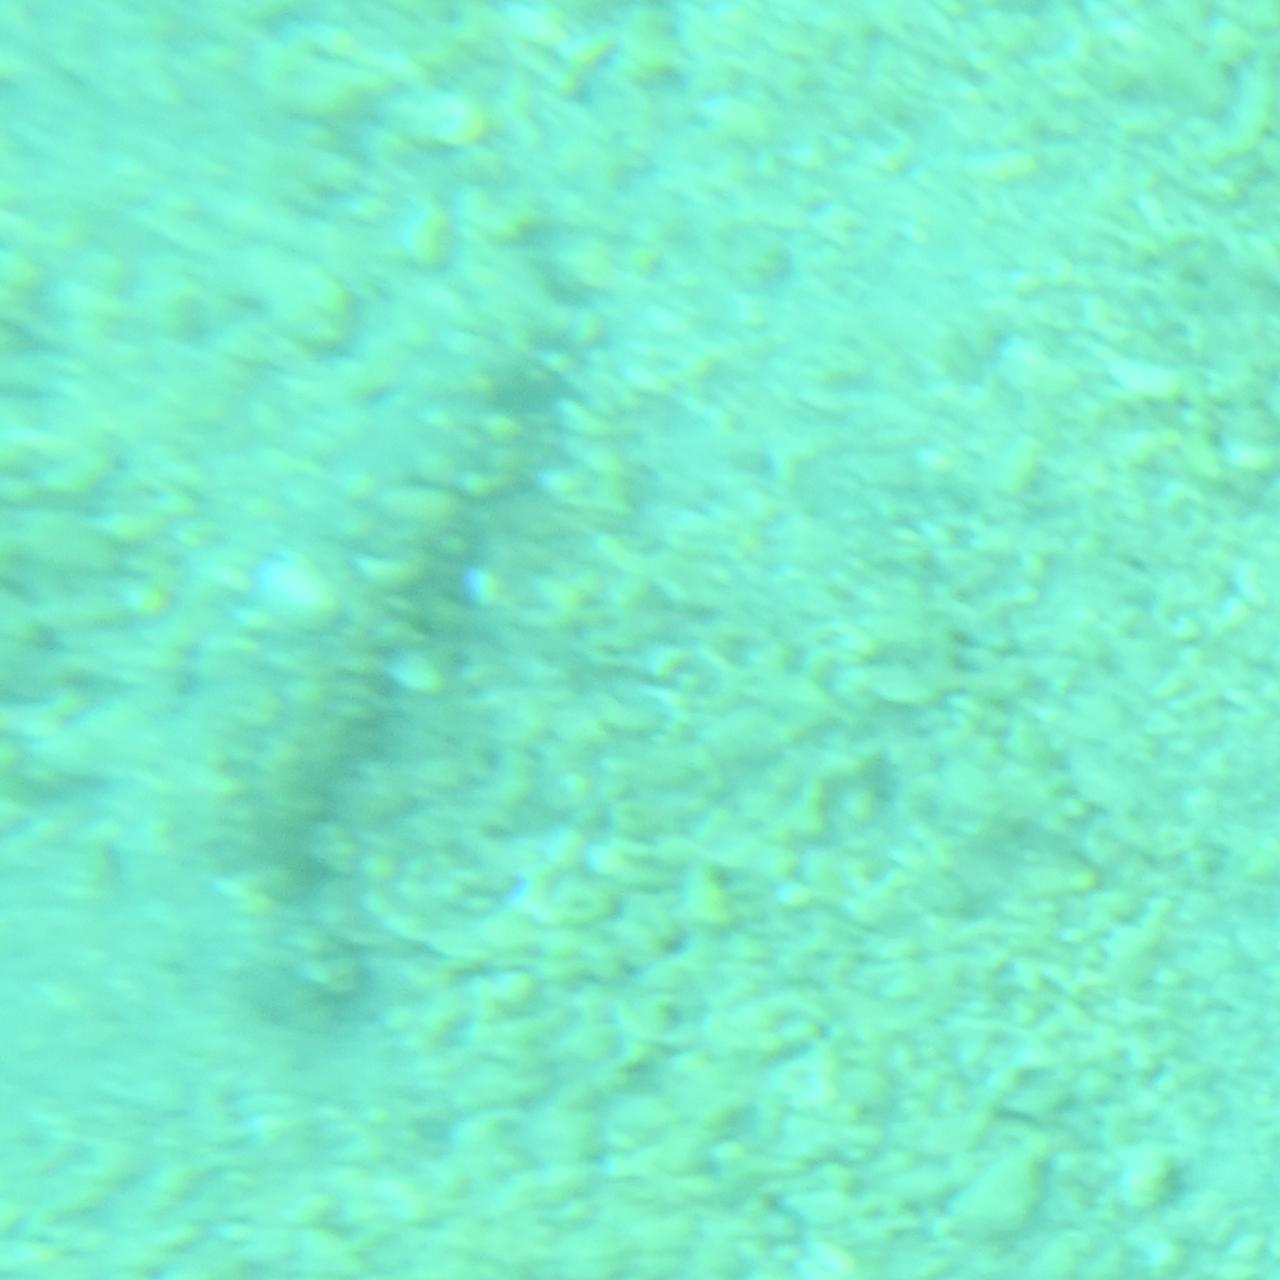Holothuria tubulosa: (106, 241, 602, 1039)
